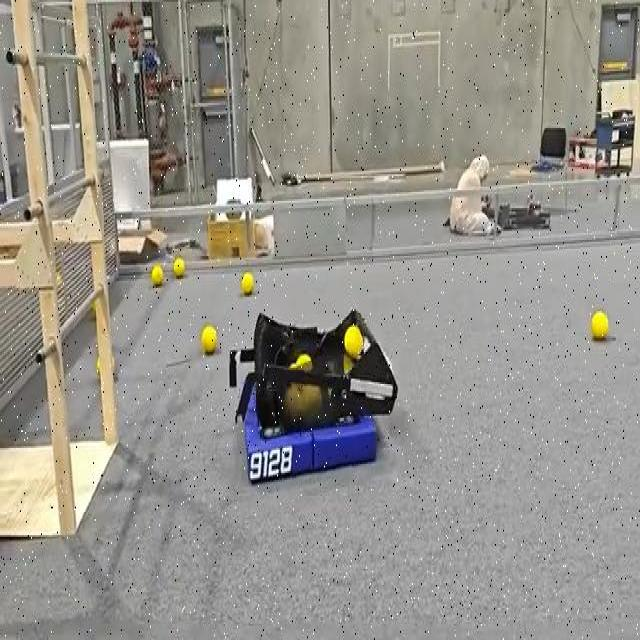Fuel: (344, 326, 363, 358), (591, 311, 608, 340), (201, 325, 216, 354), (173, 256, 186, 279), (150, 265, 163, 286), (241, 272, 253, 293), (96, 357, 100, 375)
